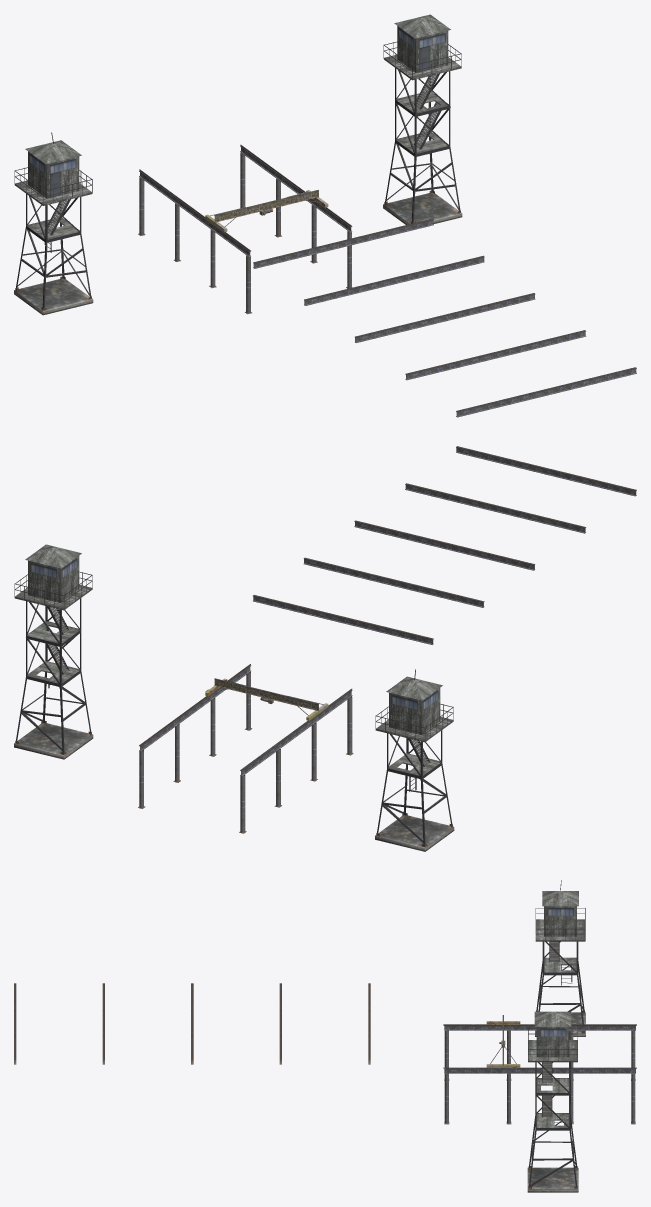
Rendered from Atlas1.fbx.
3 views of the same model, one above another, from view 1: azimuth 30°, elevation 25°; view 2: azimuth 150°, elevation 25°; view 3: azimuth 270°, elevation 25° (orthographic). The views are drawn at different scales.
Visible parts, largest first — view 1: Atlas1; view 2: Atlas1; view 3: Atlas1.
Part boxes in pixels (<box>): Atlas1: <box>14,14,636,417</box>; Atlas1: <box>14,446,636,851</box>; Atlas1: <box>14,880,636,1192</box>.
Size of the model in its own units: 4230 by 1895 by 6293.
